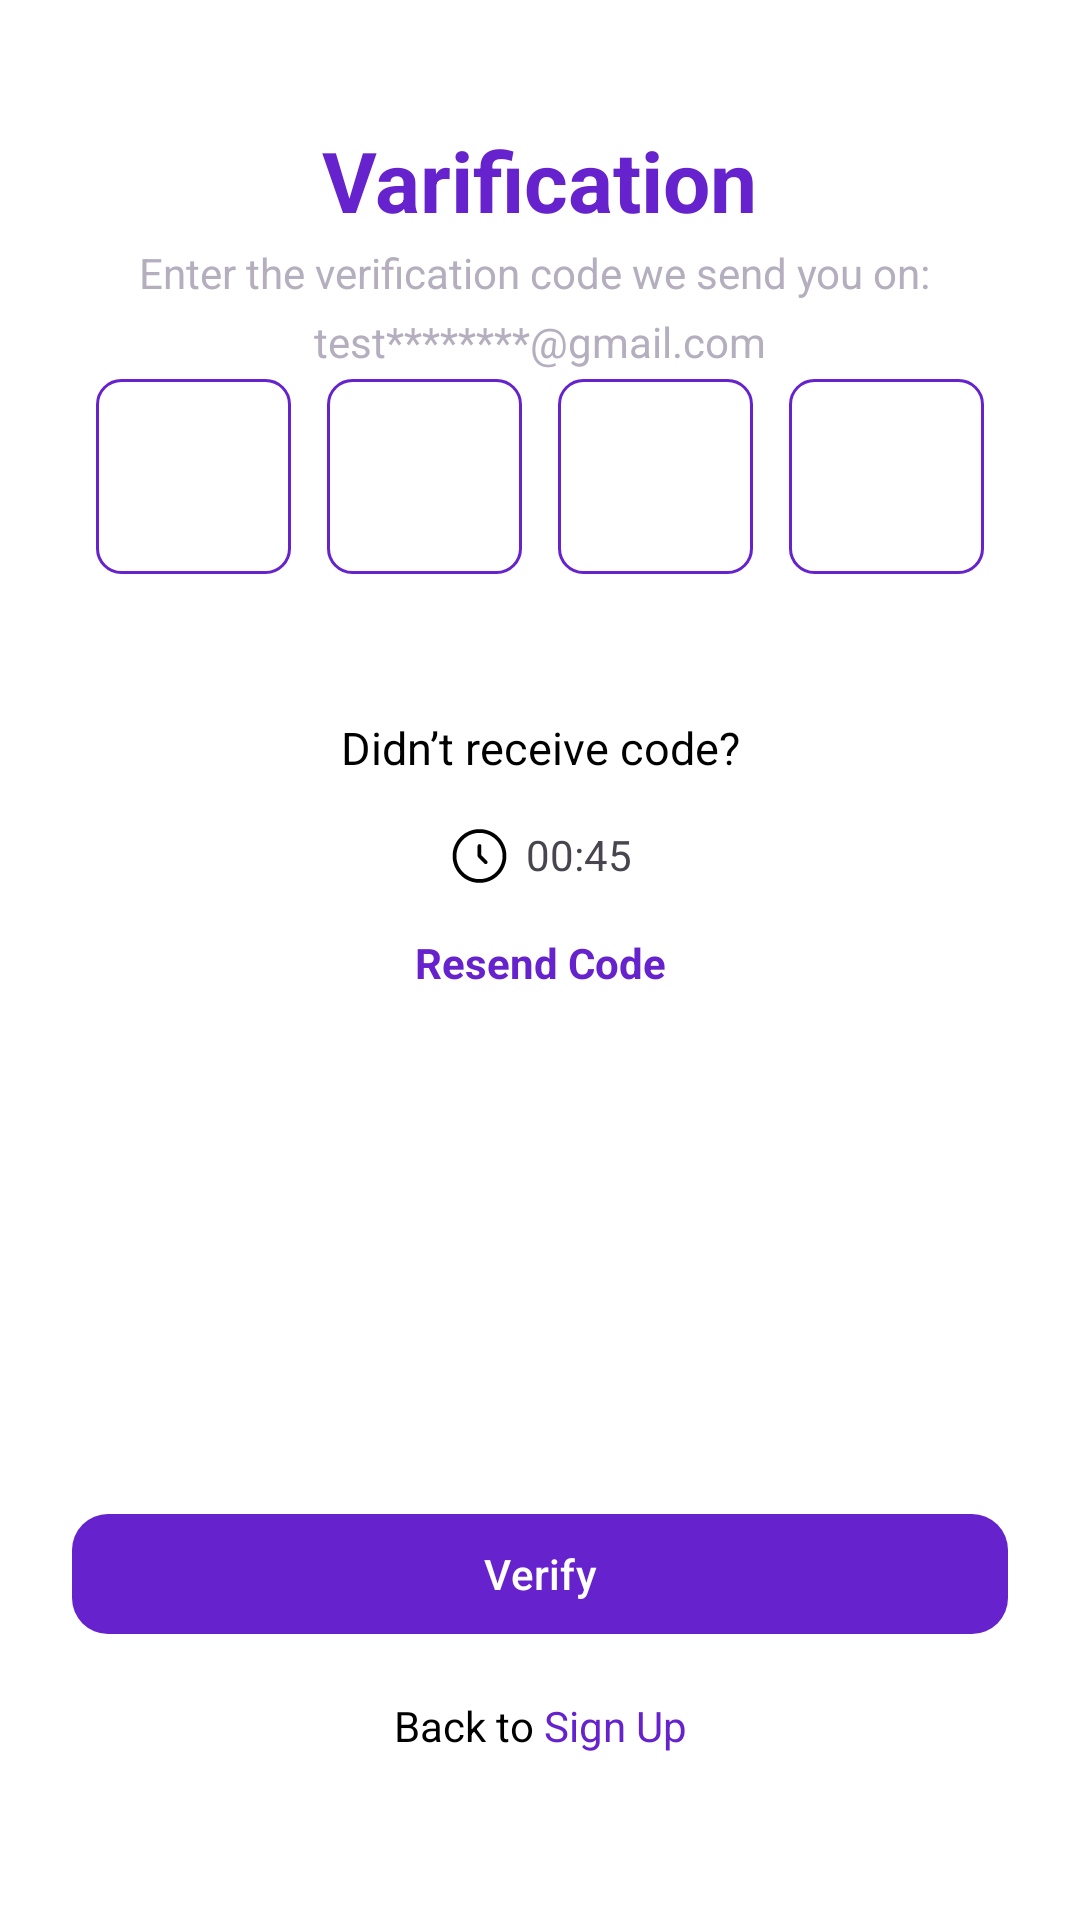

Locate icon controls on the screen. Image size 1080x1920, boxes as (x1=x1, y1=y1, x2=x2, y2=y2).
clock: (x1=452, y1=829, x2=507, y2=883)
